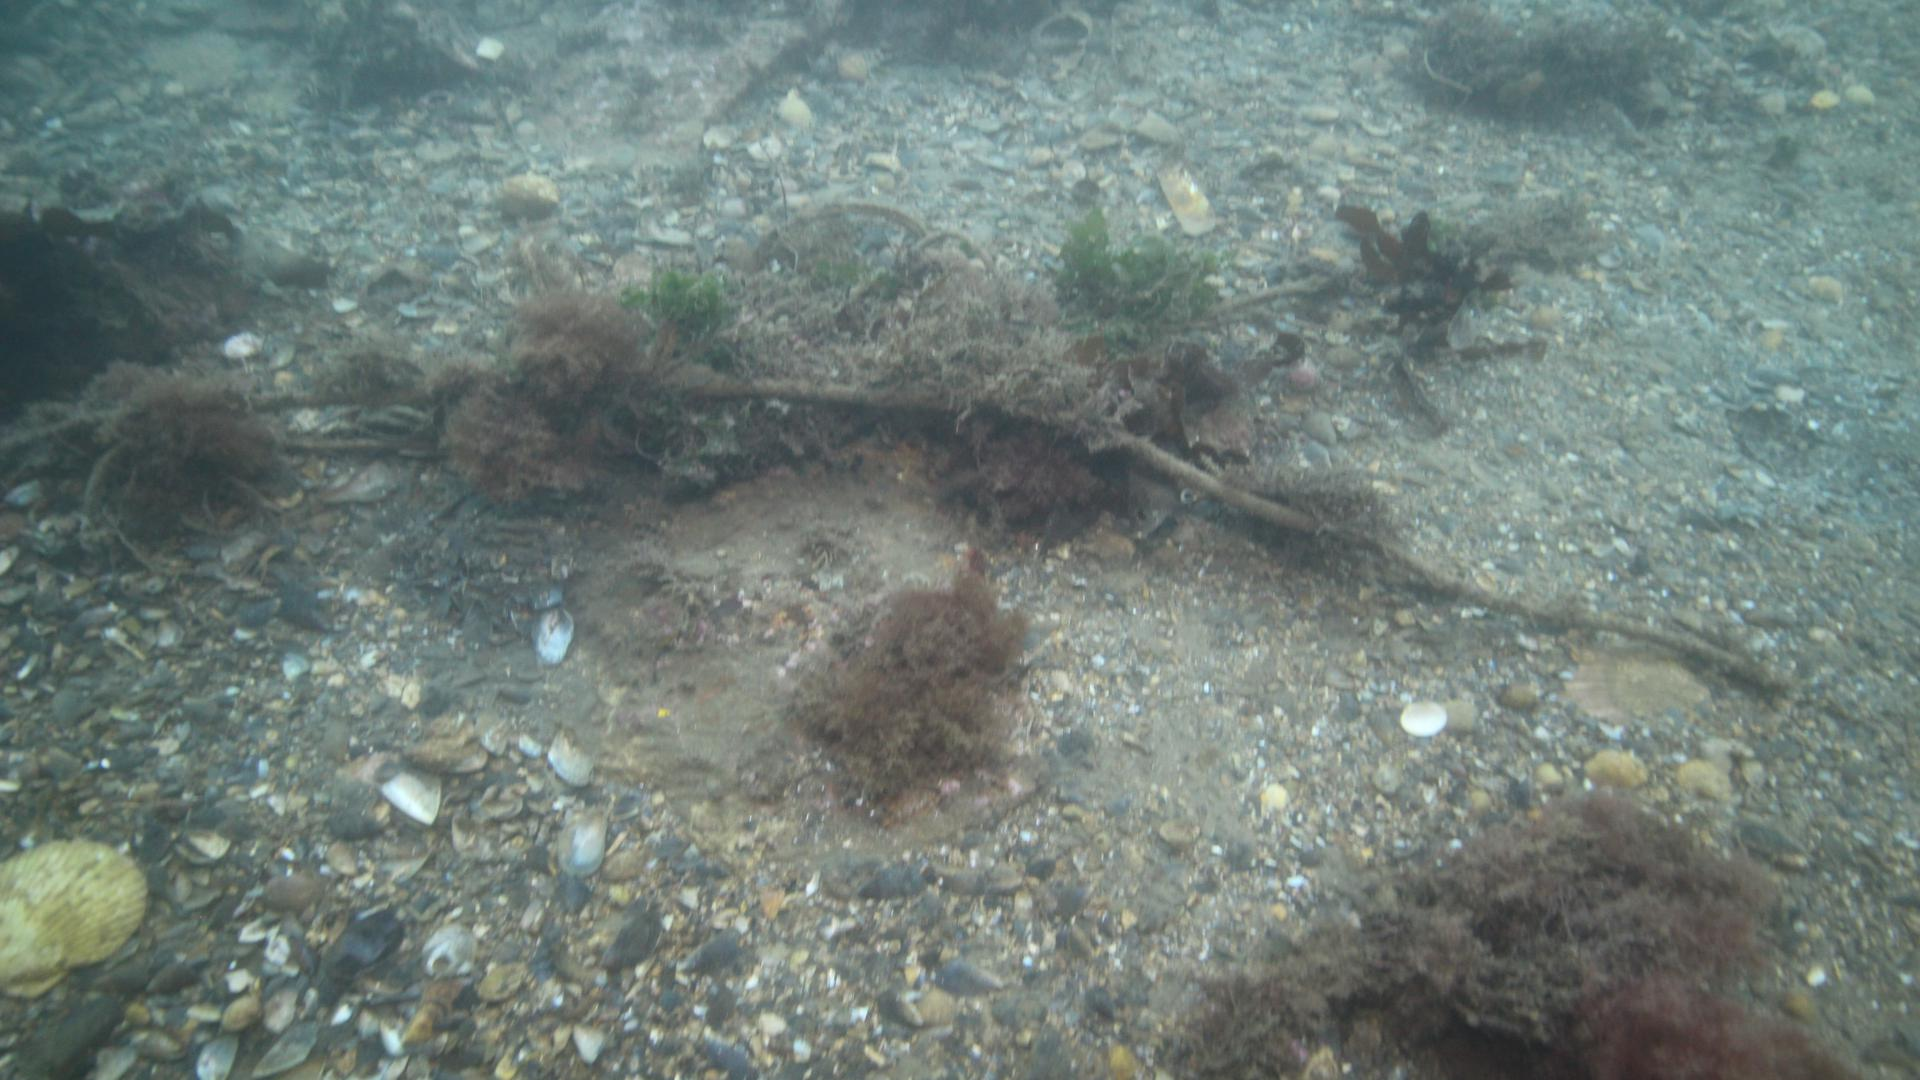rope: (709, 380, 1759, 676), (0, 380, 429, 454)
